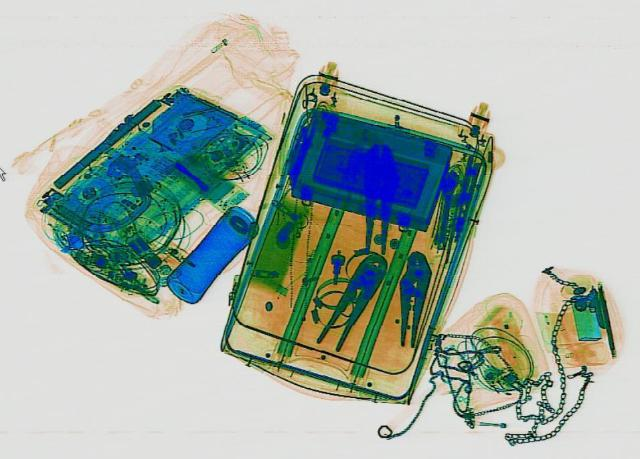Pliers: (308, 249, 397, 350), (388, 250, 434, 349), (362, 143, 391, 252)
